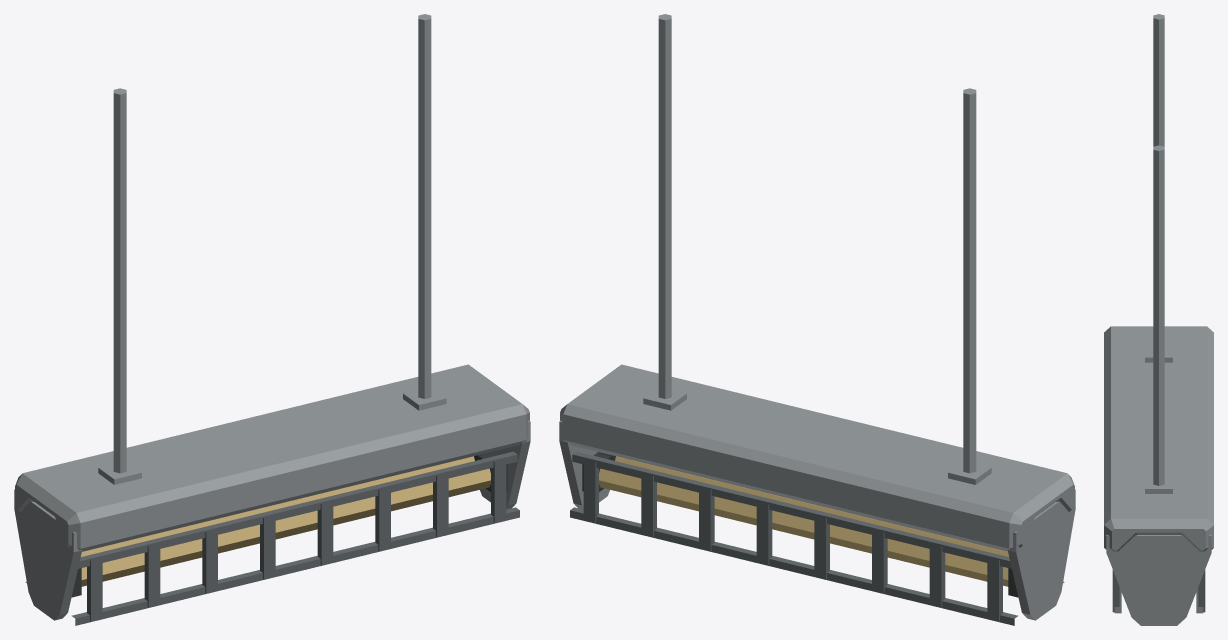
Rendered from pass-heat-lamp-c79dc8.glb.
3 renders of one model, left to right at view 1: azimuth 30°, elevation 25°; view 2: azimuth 150°, elevation 25°; view 3: azimuth 270°, elevation 25°, orthographic. The views are drawn at different scales.
Parts seen in each view (by area): view 1: pass-heat-lamp, lamp-guard; view 2: pass-heat-lamp, lamp-guard; view 3: pass-heat-lamp, lamp-guard.
Part boxes in pixels (x1,y1,x2,y2): pass-heat-lamp: (14,14,530,620); lamp-guard: (25,451,519,625); pass-heat-lamp: (559,14,1075,620); lamp-guard: (570,451,1064,625); pass-heat-lamp: (1104,14,1213,625); lamp-guard: (1112,570,1205,613).
Size of the model in its own units: 1.2 by 1.25 by 0.28.
